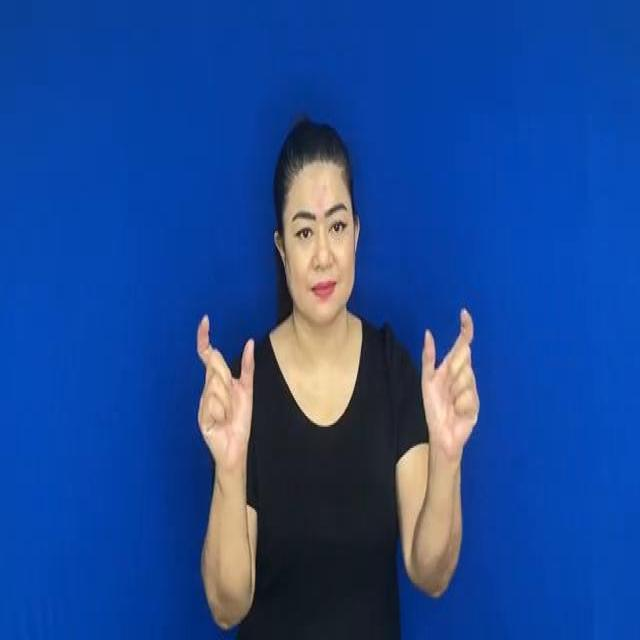crab: (402, 303, 493, 473), (186, 299, 266, 474)
